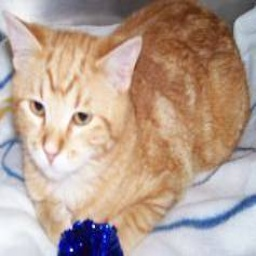cat: (3, 6, 230, 252)
